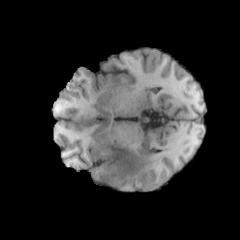glioma: (100, 146, 156, 187)
